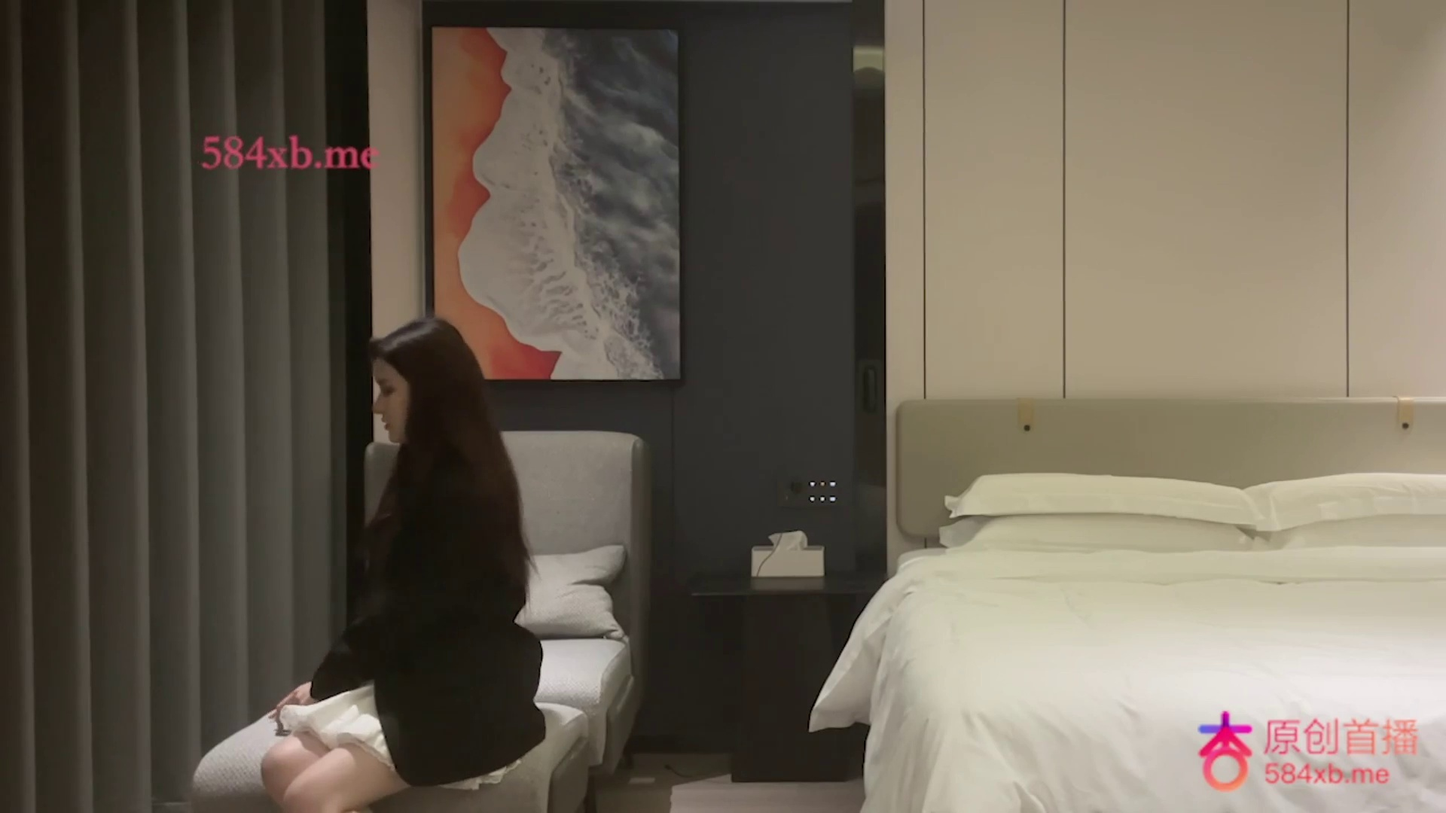sit: (258, 315, 548, 811)
